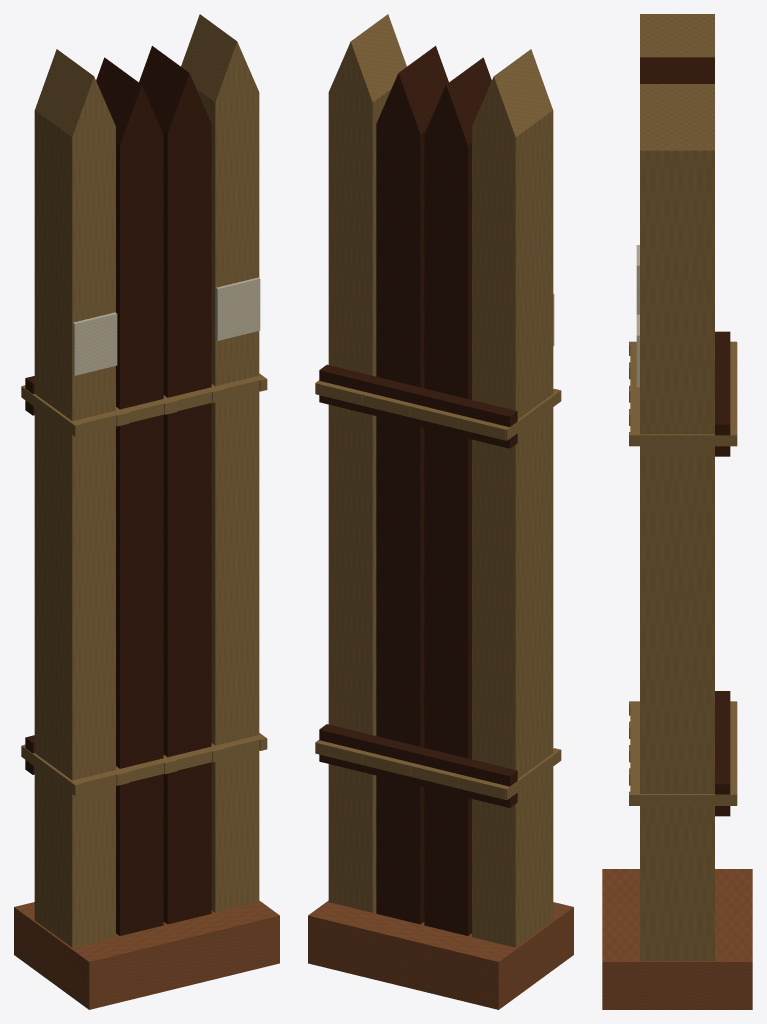
Rendered from Berber_Palisade_Age1_end_socket.fbx.
3 renders of one model, left to right at view 1: azimuth 30°, elevation 25°; view 2: azimuth 150°, elevation 25°; view 3: azimuth 270°, elevation 25°, orthographic.
Parts seen in each view (by area): view 1: palm_split_post.068, palm_split_post.073, palm_split_post.074, palm_split_post.071, earth_seat.010, neutral_owner_painted_stripe.010, front_lashing.010, lashing_side.010; view 2: palm_split_post.068, palm_split_post.074, palm_split_post.073, palm_split_post.071, earth_seat.010, continuous_rear_tie.010, back_lashing.010, lashing_side.010; view 3: palm_split_post.074, earth_seat.010, continuous_rear_tie.010, lashing_side.010, palm_split_post.068, palm_split_post.071, front_lashing.010, back_lashing.010, neutral_owner_painted_stripe.010.
Boxes of the visible parts, x1,y1,x2,y2 form: palm_split_post.068: (34, 49, 115, 947); palm_split_post.073: (139, 46, 211, 924); palm_split_post.074: (181, 14, 259, 912); palm_split_post.071: (96, 57, 163, 935); earth_seat.010: (14, 900, 279, 1009); neutral_owner_painted_stripe.010: (73, 277, 260, 375); front_lashing.010: (74, 376, 264, 793); lashing_side.010: (21, 373, 267, 795); palm_split_post.068: (472, 49, 553, 947); palm_split_post.074: (328, 14, 406, 912); palm_split_post.073: (376, 46, 448, 924); palm_split_post.071: (424, 57, 491, 935); earth_seat.010: (308, 900, 573, 1009); continuous_rear_tie.010: (319, 364, 517, 807); back_lashing.010: (316, 381, 508, 799); lashing_side.010: (315, 380, 561, 799); palm_split_post.074: (640, 84, 714, 960); earth_seat.010: (602, 869, 752, 1009); continuous_rear_tie.010: (715, 331, 730, 816); lashing_side.010: (629, 341, 736, 805); palm_split_post.068: (640, 14, 714, 57); palm_split_post.071: (640, 57, 714, 80); front_lashing.010: (630, 343, 639, 791); back_lashing.010: (730, 342, 737, 804); neutral_owner_painted_stripe.010: (636, 245, 639, 387).
Bounding box in the file's own units: 101 × 458 × 68.29.
4 materials, 4 textured.
